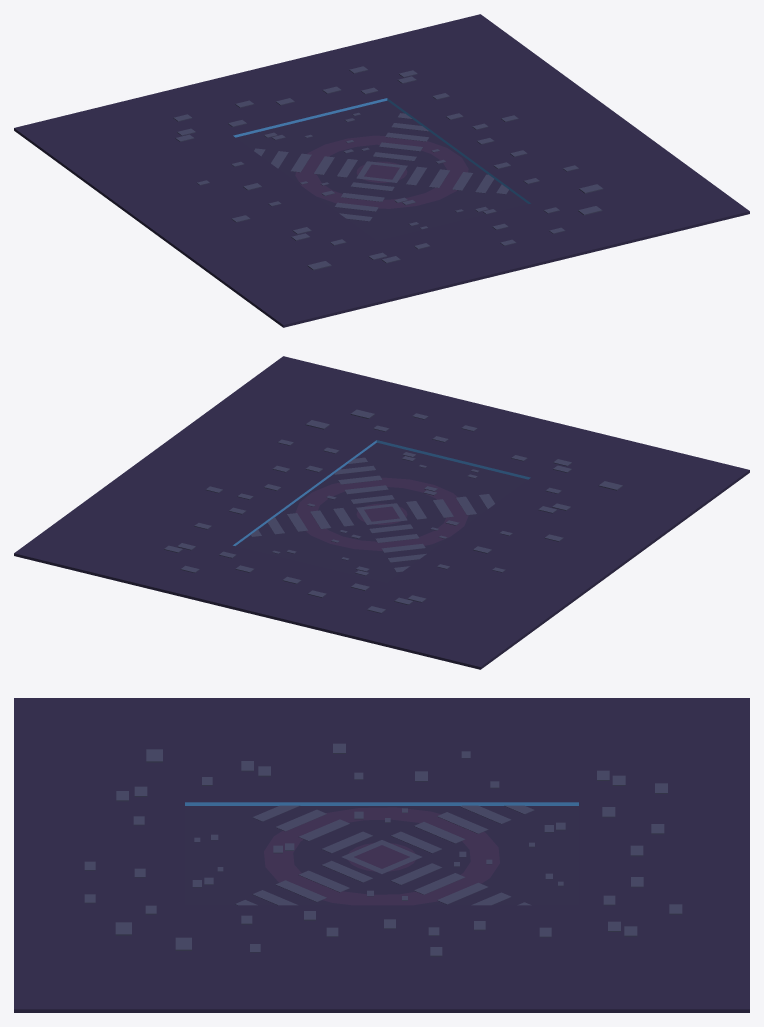
The model's file is Bounty_Ground.fbx.
3 renders of one model, top to bottom at view 1: azimuth 30°, elevation 25°; view 2: azimuth 150°, elevation 25°; view 3: azimuth 270°, elevation 25°, orthographic. The views are drawn at different scales.
Parts seen in each view (by area): view 1: 1_Bounty_Ground; view 2: 1_Bounty_Ground; view 3: 1_Bounty_Ground.
Boxes of the visible parts, x1,y1,x2,y2 form: 1_Bounty_Ground: [14, 14, 749, 327]; 1_Bounty_Ground: [14, 356, 749, 669]; 1_Bounty_Ground: [14, 698, 749, 1012].
Size of the model in its own units: 128 by 128 by 1.04.
